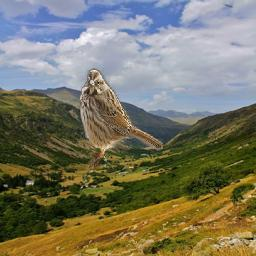Sparrow: (79, 68, 164, 170)
